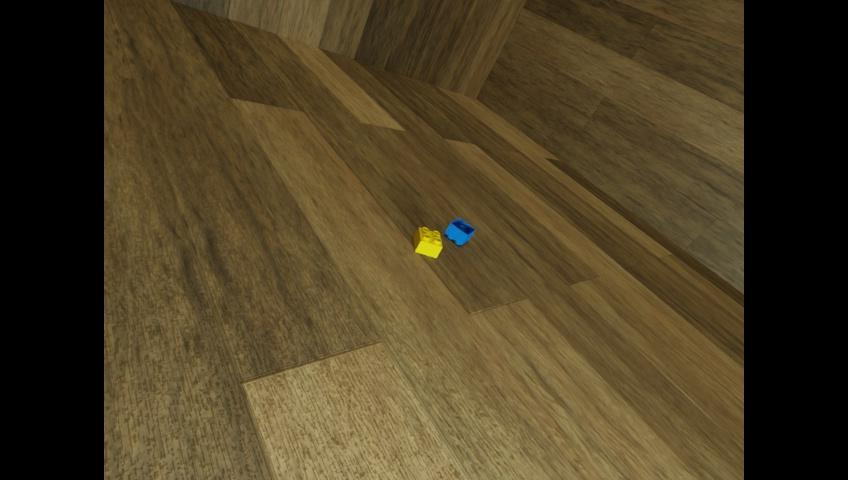2x2_blue: (445, 217, 475, 246)
2x2_yellow: (413, 226, 441, 257)
